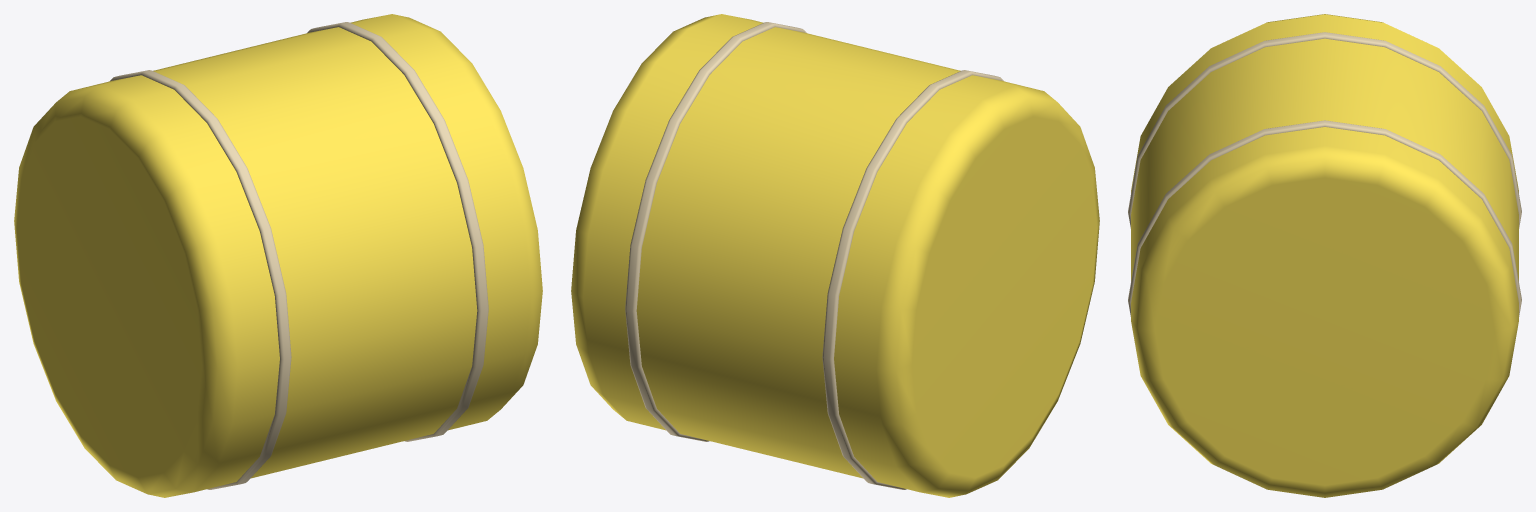
The model's file is hay_bale.fbx.
3 views of the same model, side by side, from view 1: azimuth 30°, elevation 25°; view 2: azimuth 150°, elevation 25°; view 3: azimuth 270°, elevation 25° (orthographic). The views are drawn at different scales.
Visible parts, largest first — view 1: Visual; view 2: Visual; view 3: Visual.
Boxes of the visible parts, x1,y1,x2,y2 form: Visual: [14, 14, 542, 497]; Visual: [571, 14, 1099, 497]; Visual: [1128, 14, 1521, 497].
Size of what is drawn, in the model's own units: 120 by 132 by 132.
